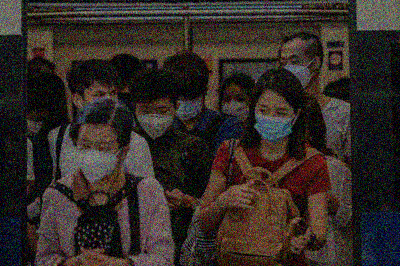with_mask: (73, 133, 118, 188), (254, 101, 294, 144), (137, 103, 175, 143), (278, 51, 313, 88), (220, 91, 252, 123), (175, 96, 203, 121), (27, 113, 45, 139)
